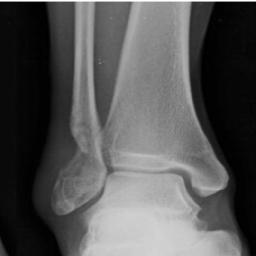cancer: (52, 99, 108, 216)
